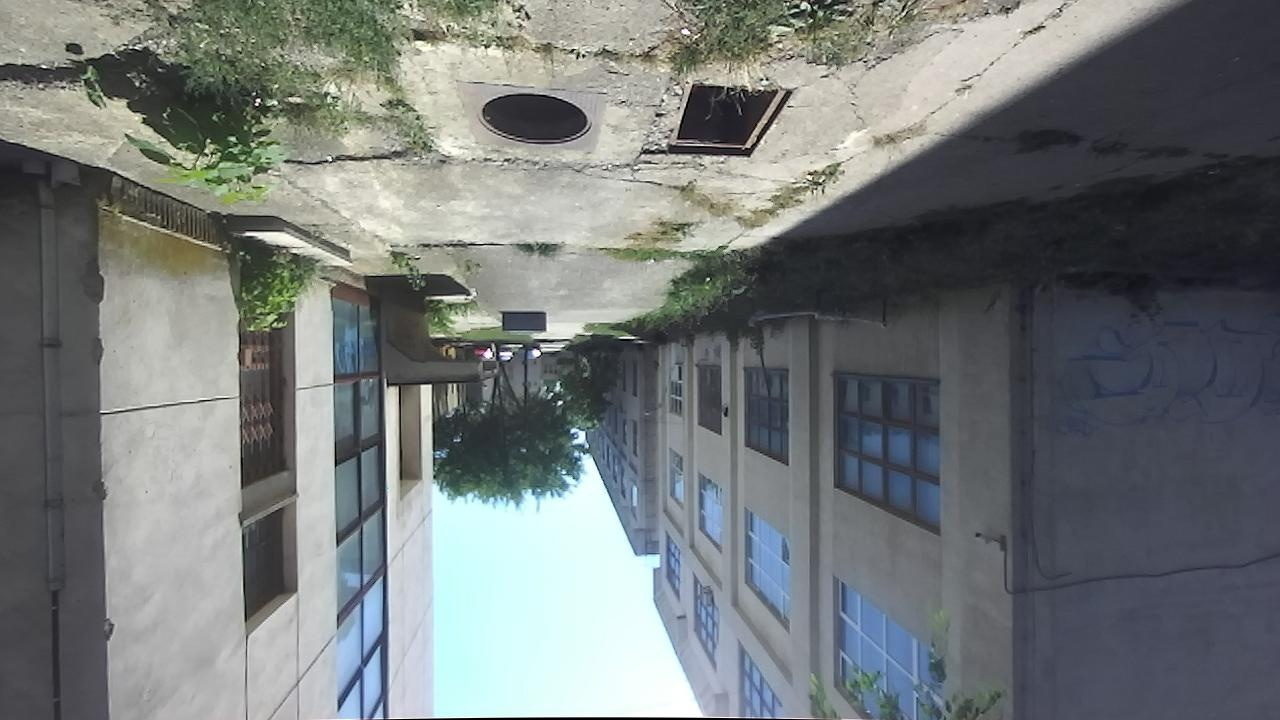drain: (660, 80, 800, 163), (470, 90, 595, 148)
